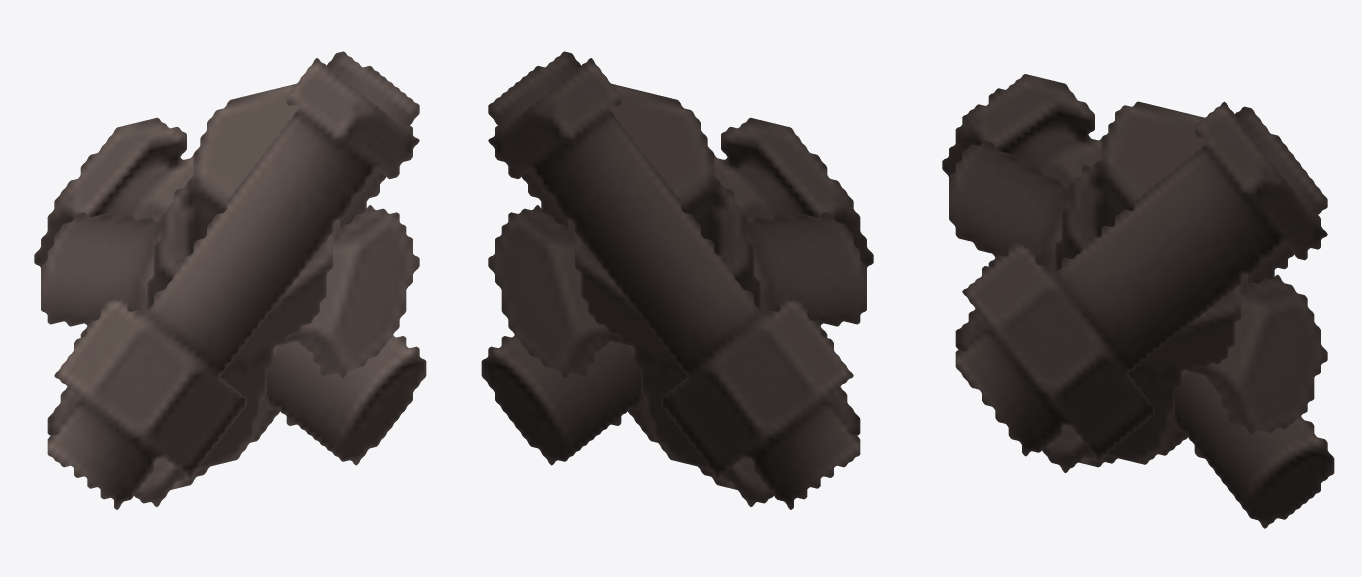
File: bolts_billboards.glb
The picture shows the model from 3 angles, left to right: view 1: azimuth 30°, elevation 25°; view 2: azimuth 150°, elevation 25°; view 3: azimuth 330°, elevation 25°; orthographic projection.
Parts seen in each view (by area): view 1: gremlin.bolts_billboards-MeshSets[bolt_1].Mesh[0], gremlin.bolts_billboards-MeshSets[bolt_5].Mesh[0], gremlin.bolts_billboards-MeshSets[bolt_6].Mesh[0], gremlin.bolts_billboards-MeshSets[bolt_2].Mesh[0], gremlin.bolts_billboards-MeshSets[bolt_4].Mesh[0], gremlin.bolts_billboards-MeshSets[bolt_8].Mesh[0]; view 2: gremlin.bolts_billboards-MeshSets[bolt_1].Mesh[0], gremlin.bolts_billboards-MeshSets[bolt_5].Mesh[0], gremlin.bolts_billboards-MeshSets[bolt_6].Mesh[0], gremlin.bolts_billboards-MeshSets[bolt_2].Mesh[0], gremlin.bolts_billboards-MeshSets[bolt_4].Mesh[0], gremlin.bolts_billboards-MeshSets[bolt_8].Mesh[0]; view 3: gremlin.bolts_billboards-MeshSets[bolt_1].Mesh[0], gremlin.bolts_billboards-MeshSets[bolt_5].Mesh[0], gremlin.bolts_billboards-MeshSets[bolt_6].Mesh[0], gremlin.bolts_billboards-MeshSets[bolt_2].Mesh[0], gremlin.bolts_billboards-MeshSets[bolt_4].Mesh[0], gremlin.bolts_billboards-MeshSets[bolt_8].Mesh[0].
Part boxes in pixels (x1,y1,x2,y2): gremlin.bolts_billboards-MeshSets[bolt_1].Mesh[0]: (47, 58, 419, 509); gremlin.bolts_billboards-MeshSets[bolt_5].Mesh[0]: (41, 205, 419, 378); gremlin.bolts_billboards-MeshSets[bolt_6].Mesh[0]: (34, 117, 426, 465); gremlin.bolts_billboards-MeshSets[bolt_2].Mesh[0]: (147, 83, 339, 469); gremlin.bolts_billboards-MeshSets[bolt_4].Mesh[0]: (47, 51, 419, 506); gremlin.bolts_billboards-MeshSets[bolt_8].Mesh[0]: (80, 168, 386, 489); gremlin.bolts_billboards-MeshSets[bolt_1].Mesh[0]: (488, 58, 860, 509); gremlin.bolts_billboards-MeshSets[bolt_5].Mesh[0]: (488, 205, 866, 378); gremlin.bolts_billboards-MeshSets[bolt_6].Mesh[0]: (481, 117, 873, 465); gremlin.bolts_billboards-MeshSets[bolt_2].Mesh[0]: (568, 83, 760, 469); gremlin.bolts_billboards-MeshSets[bolt_4].Mesh[0]: (488, 51, 860, 506); gremlin.bolts_billboards-MeshSets[bolt_8].Mesh[0]: (521, 168, 827, 489); gremlin.bolts_billboards-MeshSets[bolt_1].Mesh[0]: (955, 101, 1327, 460); gremlin.bolts_billboards-MeshSets[bolt_5].Mesh[0]: (949, 140, 1327, 434); gremlin.bolts_billboards-MeshSets[bolt_6].Mesh[0]: (942, 74, 1334, 528); gremlin.bolts_billboards-MeshSets[bolt_2].Mesh[0]: (1055, 101, 1247, 462); gremlin.bolts_billboards-MeshSets[bolt_4].Mesh[0]: (955, 106, 1327, 472); gremlin.bolts_billboards-MeshSets[bolt_8].Mesh[0]: (988, 241, 1294, 467).
Size of the model in its own units: 0.25 by 0.25 by 0.
1 material, 1 textured.
